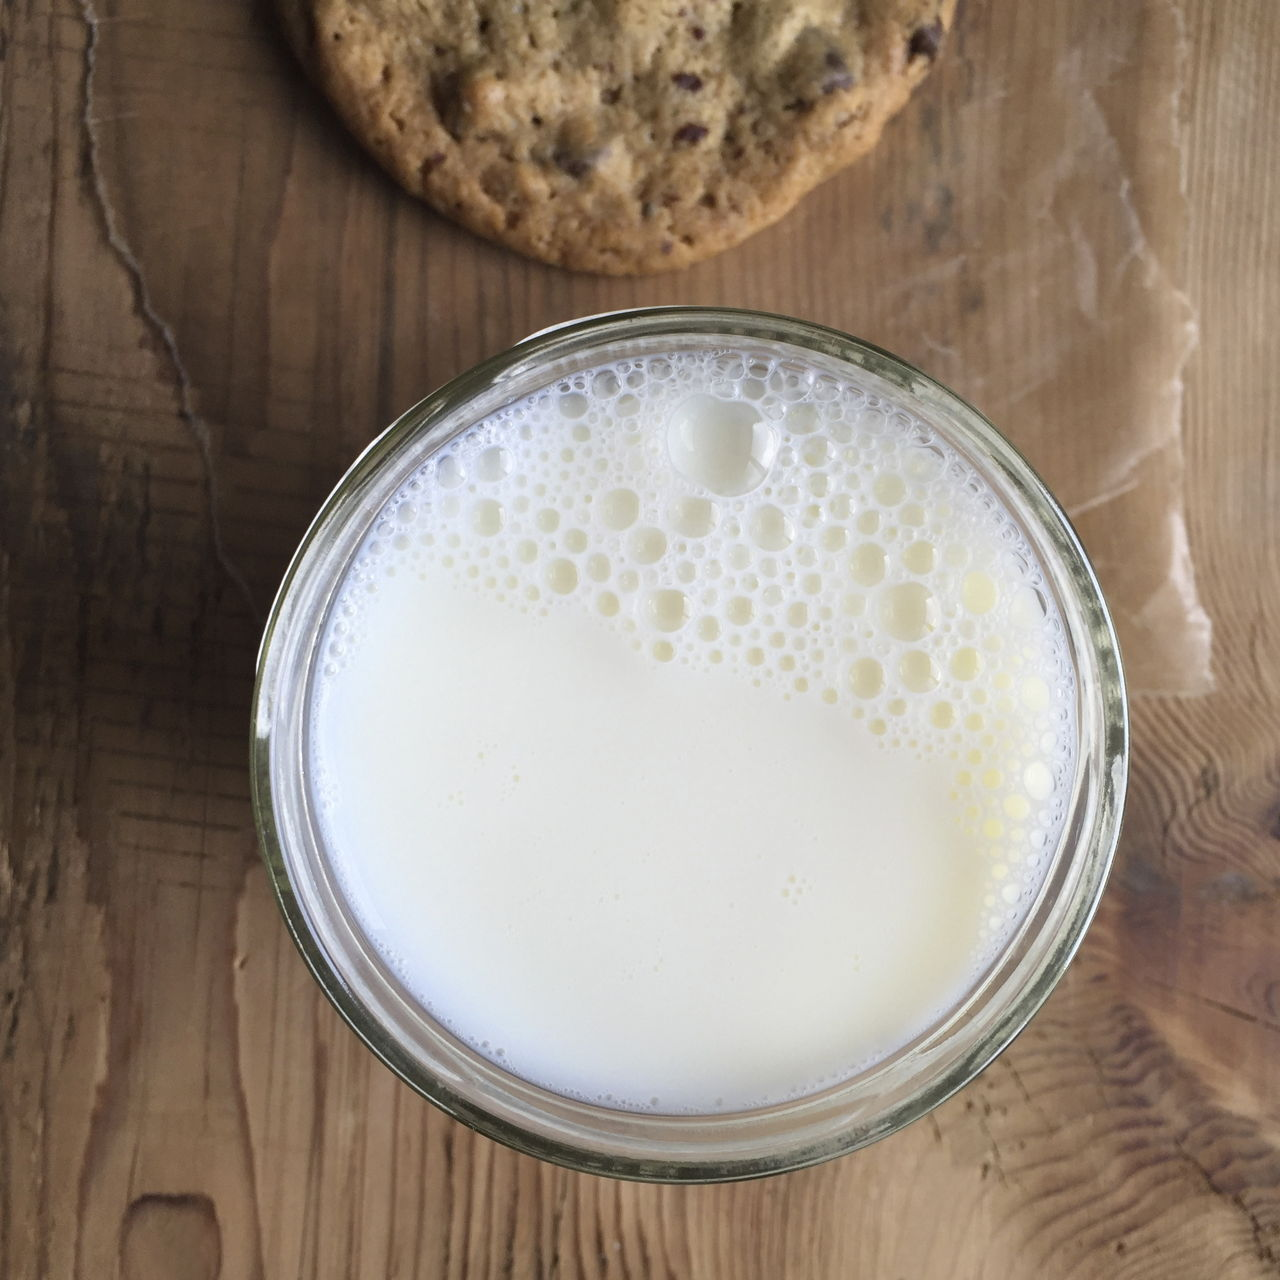glass of milk: (254, 315, 1144, 1190)
